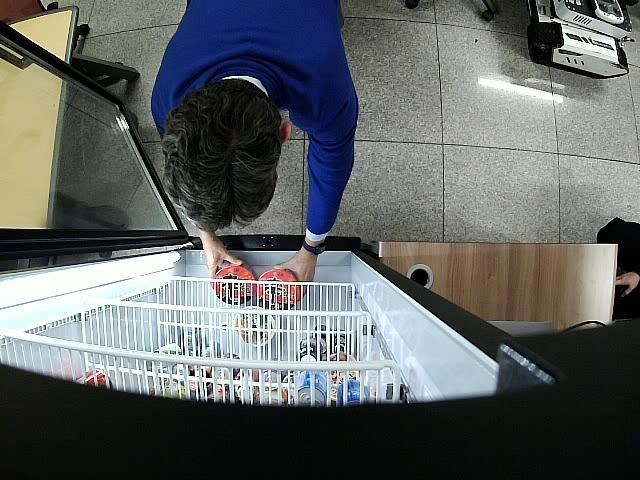01_ShinRamen_L: (258, 268, 302, 312), (214, 260, 256, 306)
